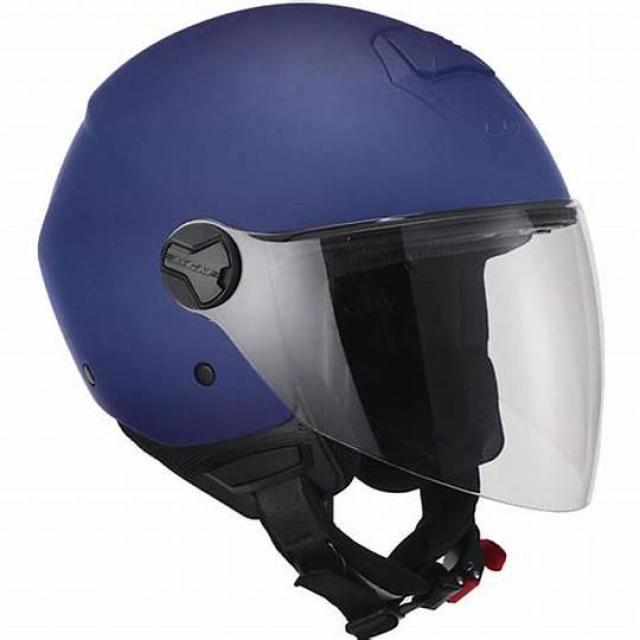helmet: (25, 0, 611, 640)
